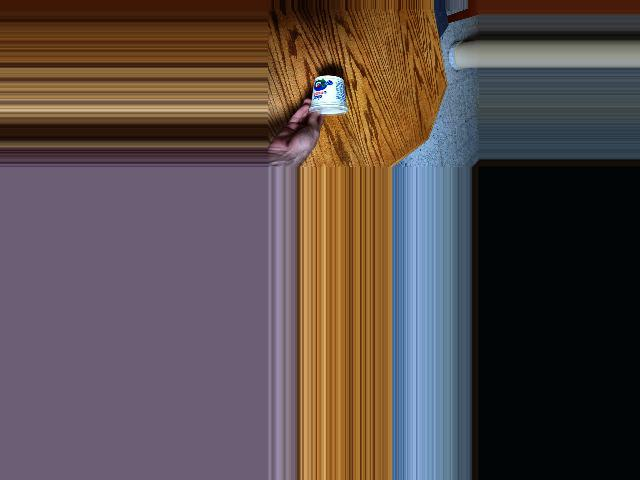cotage: (301, 75, 351, 123)
